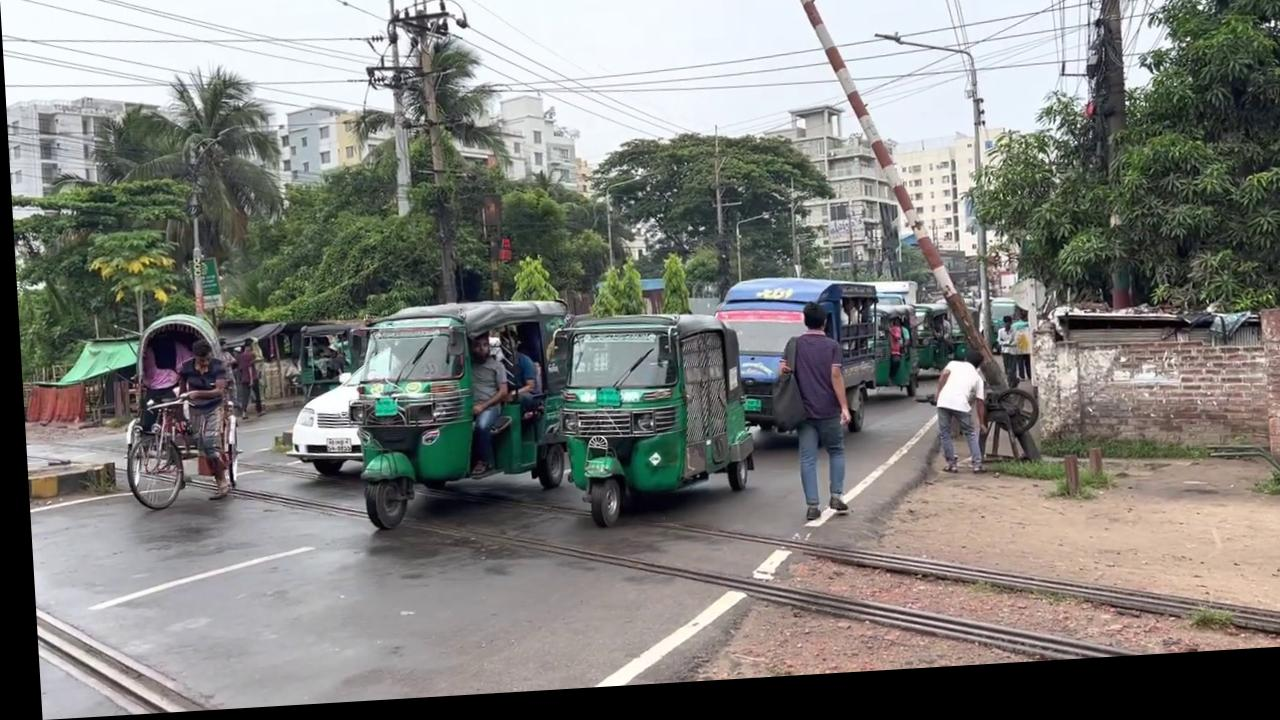Fence: (770, 311, 849, 531), (167, 339, 233, 503), (925, 357, 985, 487), (455, 335, 507, 483)
Garbage: (1087, 0, 1136, 323)
Motorcycle: (26, 404, 1280, 718)
Railroad-crossing: (84, 61, 289, 323)
Rickshaw: (339, 300, 574, 535), (541, 314, 752, 537), (274, 323, 377, 481), (854, 289, 919, 410), (289, 324, 366, 405)
